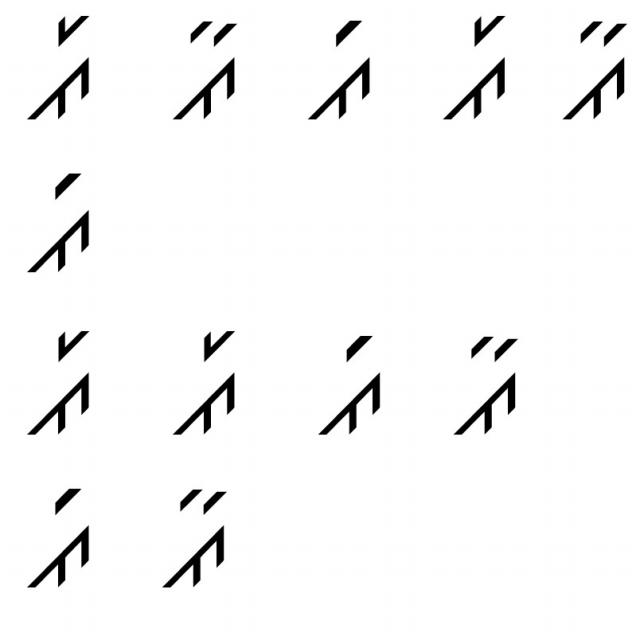kan: (450, 315, 522, 452), (162, 15, 246, 127), (163, 486, 249, 594), (561, 7, 631, 128)
kang: (295, 322, 384, 443), (23, 478, 100, 605), (302, 13, 375, 142), (20, 163, 101, 279)
kar: (18, 324, 99, 442), (163, 324, 242, 439), (21, 10, 98, 126), (437, 13, 513, 128)
